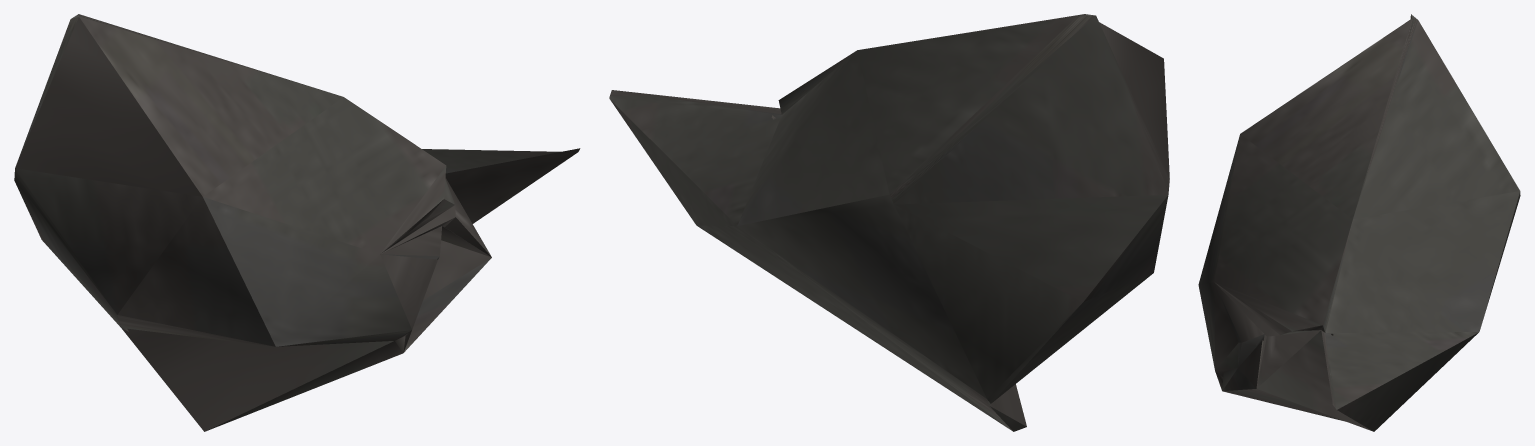
Rendered from carbonaceous_asteroid_04_angular_lod2.glb.
3 renders of one model, left to right at view 1: azimuth 30°, elevation 25°; view 2: azimuth 150°, elevation 25°; view 3: azimuth 270°, elevation 25°, orthographic. The views are drawn at different scales.
Visible parts, largest first — view 1: mesh_node; view 2: mesh_node; view 3: mesh_node.
Boxes of the visible parts, bbox=[...] form: mesh_node: bbox=[14, 14, 580, 431]; mesh_node: bbox=[609, 14, 1169, 431]; mesh_node: bbox=[1198, 14, 1520, 431].
Size of the model in its own units: 2 by 1.49 by 1.19.
Materials: 1 (1 with a texture image).
